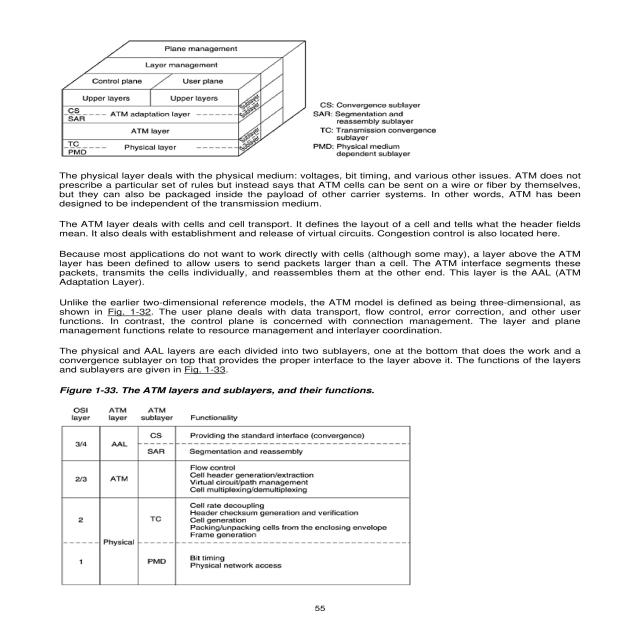diagram: (28, 383, 473, 595), (29, 17, 485, 163)
